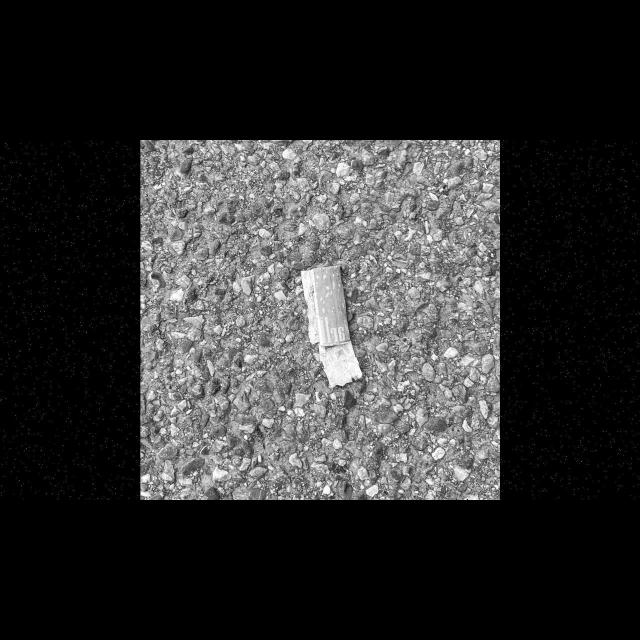cigarette: (300, 265, 364, 389)
